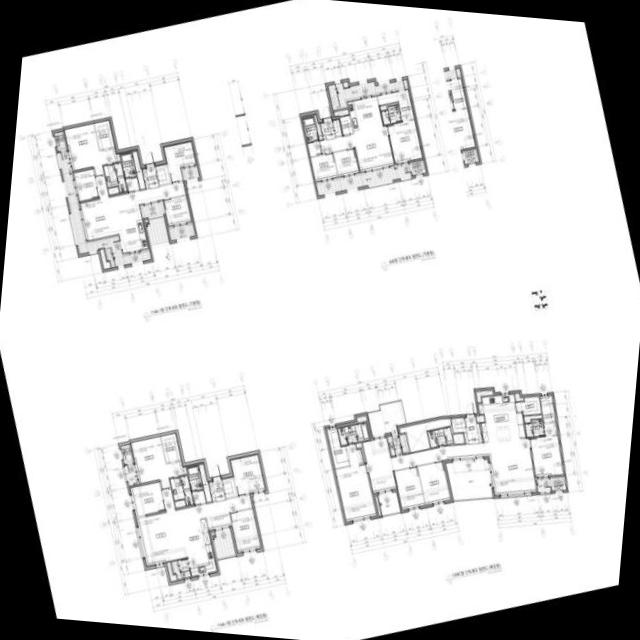background: (0, 0, 640, 640)
space_balconi: (57, 150, 150, 267), (316, 162, 411, 195), (327, 79, 407, 108), (445, 458, 492, 499), (367, 401, 405, 435), (212, 529, 235, 558), (145, 216, 168, 245), (377, 491, 399, 514), (386, 433, 409, 455), (168, 223, 194, 240), (170, 558, 190, 580), (141, 202, 163, 217), (124, 463, 137, 485), (182, 166, 199, 180), (536, 478, 550, 491)
space_bedroom: (334, 443, 377, 522), (63, 123, 117, 175), (130, 436, 183, 488), (387, 119, 423, 164), (417, 460, 451, 505), (229, 453, 265, 494), (229, 508, 261, 553), (530, 435, 564, 477), (162, 140, 196, 181), (394, 466, 424, 510), (129, 481, 164, 516), (162, 195, 192, 227), (71, 168, 98, 201), (310, 152, 337, 182), (333, 148, 358, 177)
space_dressroom: (376, 87, 414, 120), (325, 425, 349, 468), (539, 393, 558, 435), (160, 432, 181, 462), (94, 119, 114, 149)
space_front: (463, 416, 481, 443), (319, 116, 341, 138), (141, 162, 159, 188), (208, 476, 225, 501)
space_kitchen: (478, 393, 525, 441), (180, 518, 217, 577), (114, 205, 148, 254), (345, 94, 382, 132)
space_living_room: (362, 435, 537, 496), (135, 488, 252, 566), (78, 174, 186, 241), (319, 125, 393, 172)
space_other: (398, 417, 450, 451), (198, 463, 211, 501), (132, 150, 145, 188), (205, 512, 231, 531), (515, 396, 541, 414), (221, 475, 236, 497), (155, 163, 170, 184), (339, 115, 352, 134), (313, 113, 322, 139), (99, 248, 110, 268), (451, 417, 465, 432), (307, 141, 321, 156), (166, 561, 176, 581), (191, 490, 205, 504), (125, 177, 139, 191), (355, 442, 365, 461), (476, 390, 492, 401), (374, 495, 381, 515), (523, 415, 542, 422), (452, 433, 464, 443), (333, 108, 348, 116), (380, 102, 397, 109), (355, 413, 367, 422), (107, 186, 118, 194), (514, 393, 523, 400), (476, 414, 484, 421), (342, 81, 348, 87), (116, 152, 120, 160), (182, 465, 186, 473), (211, 531, 214, 535), (144, 219, 147, 222)
space_outdoor_room: (120, 443, 133, 463), (53, 130, 66, 150), (409, 159, 425, 175), (549, 475, 566, 490)
space_toilet: (169, 475, 192, 507), (337, 422, 369, 444), (103, 162, 126, 191), (427, 426, 452, 447), (186, 465, 202, 490), (120, 152, 136, 177), (381, 104, 401, 124), (302, 116, 318, 141), (525, 418, 544, 436)
